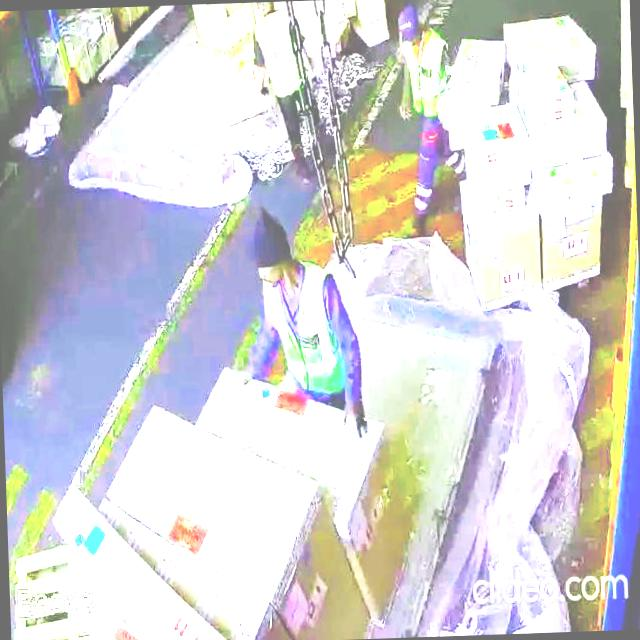Box: (119, 413, 336, 640), (215, 370, 422, 580), (461, 208, 544, 296), (504, 16, 594, 74), (539, 206, 603, 287), (470, 106, 530, 166), (448, 33, 500, 102), (540, 125, 612, 163), (540, 164, 614, 200), (519, 68, 567, 116)
